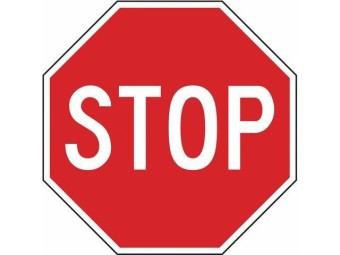SS: (40, 2, 299, 255)
